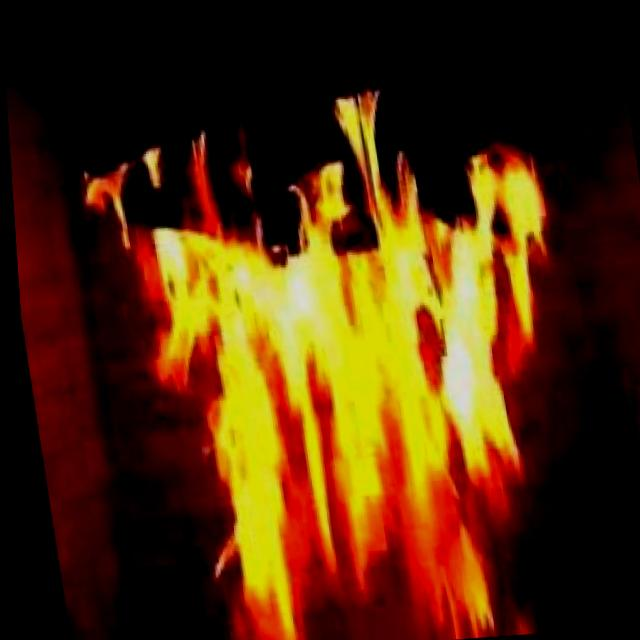Fire: (49, 58, 611, 640)
